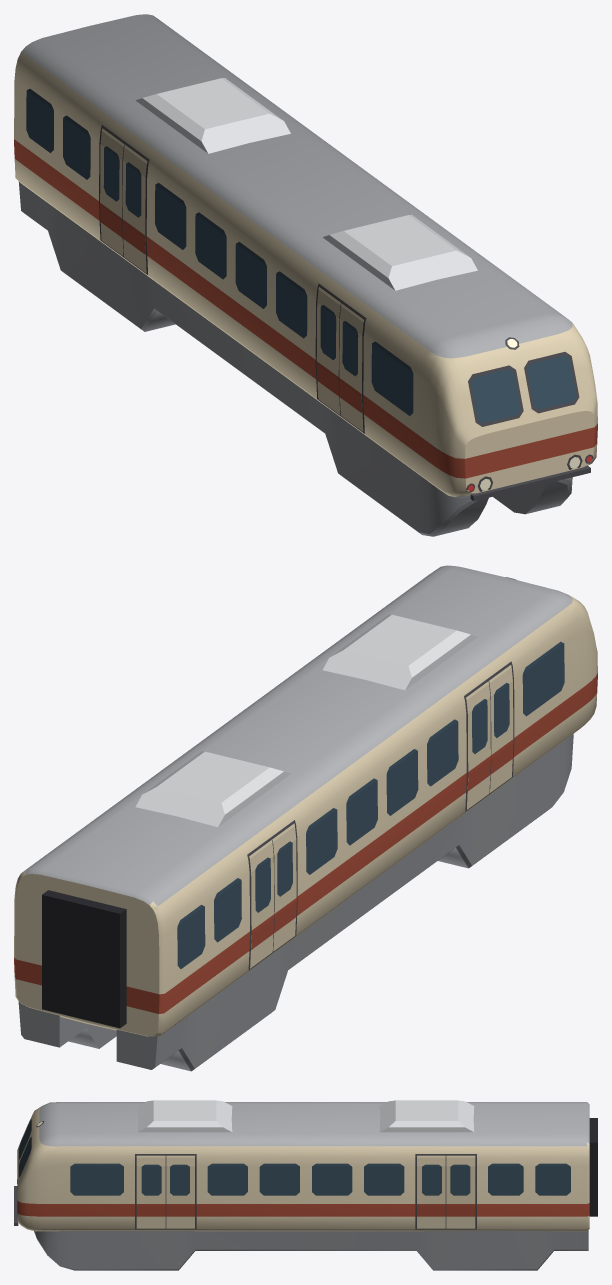
The picture shows the model from 3 angles, top to bottom: view 1: azimuth 30°, elevation 25°; view 2: azimuth 150°, elevation 25°; view 3: azimuth 270°, elevation 25°; orthographic projection. The views are drawn at different scales.
Visible parts, largest first — view 1: 322; view 2: 322; view 3: 322.
Part boxes in pixels (x1=…): 322: x1=14, y1=14, x2=597, y2=536; 322: x1=14, y1=565, x2=597, y2=1071; 322: x1=14, y1=1100, x2=597, y2=1270.
Size of the model in its own units: 2.72 by 3.7 by 14.
